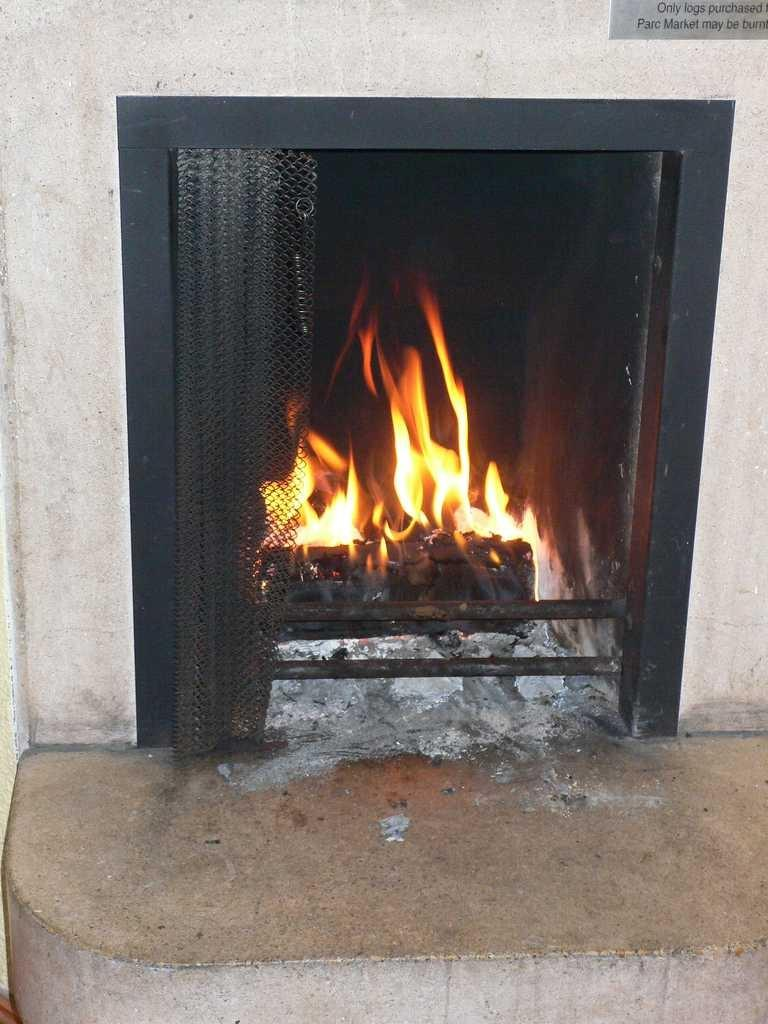fire: (305, 305, 532, 558)
